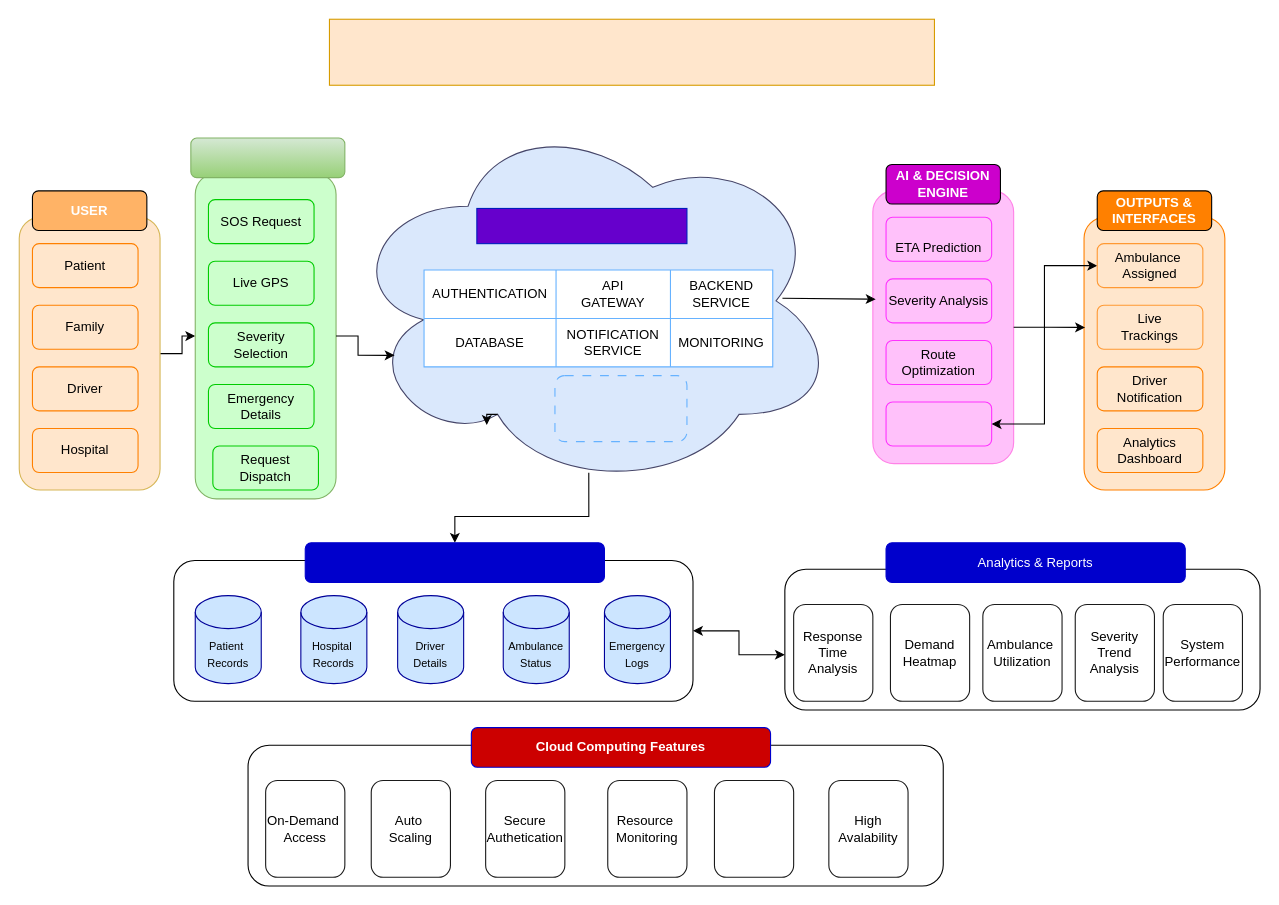
Image size: 1279x905. Some labels were removed from this diagram. The shapes that lost their labels are listed below. From the top down, each one's centre as x and y in pixels, then its label:
pixel 631 51: CareRoute – Cloud Ambulance Dispatch Optimizer Using ETA & Severity Analytics
pixel 267 157: MOBILE APP/WEB
pixel 581 225: CLOUD INFRASTRUCTURE
pixel 620 408: SECURITY HTTPS|SSL/TLS|IAM
pixel 938 423: Ambulance Allocation
pixel 454 562: Data Storage-Cloud Database
pixel 753 828: Cloud Storage
